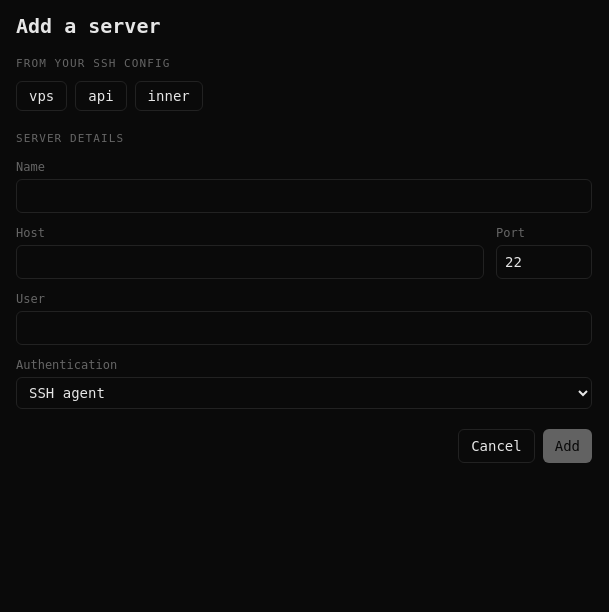
Test case: AddServer › uses key authentication when the ssh config names an identity file
The image size is (609, 612).
Click the button "api" at (101,96), box [75,80,127,110]
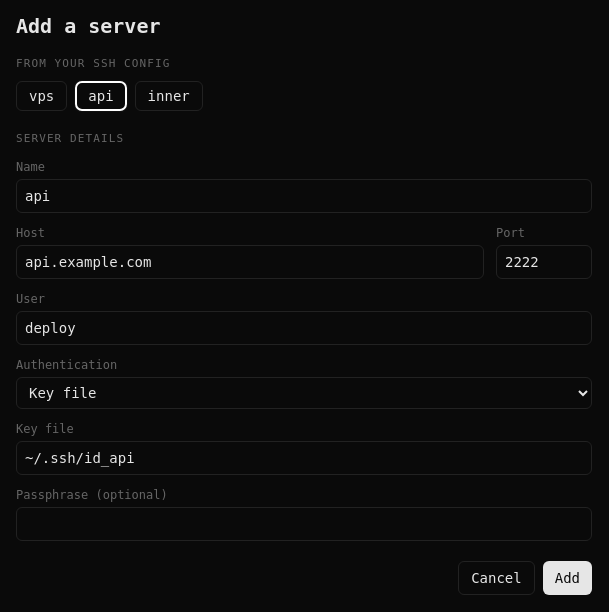
Check: the dropdown labelled "Authentication" shows "Key file", box [16,377,592,409]
Check: the field labelled "Key file" holds "~/.ssh/id_api", box [16,441,592,475]
